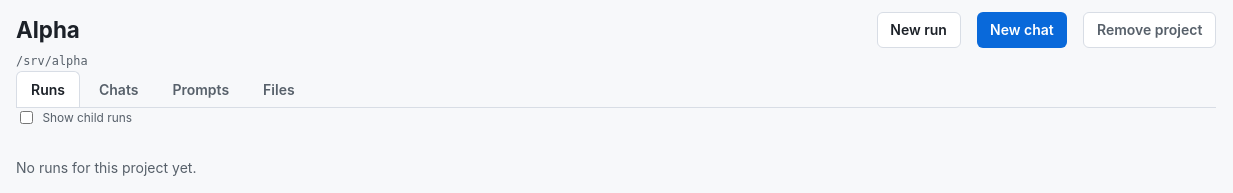
Test: ProjectView › Chats pane shows an empty state with no chats
Click the tab with test id "tab-chats" at (119, 89), box 84,71 -> 154,107
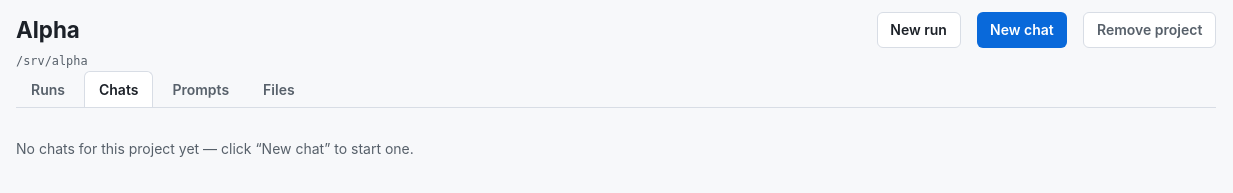
Now the text "No chats for this project yet" is shown, box 16,140 -> 414,157
